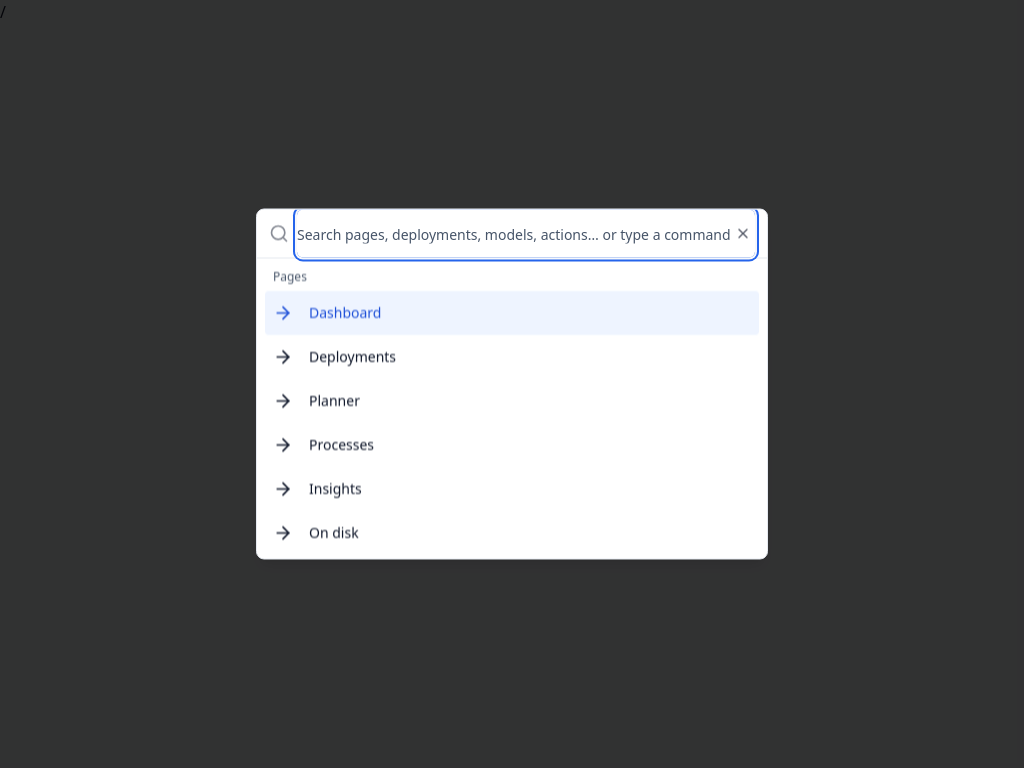
Test: CommandPalette › filters and navigates on Enter
Type "planner" into the dropdown with placeholder "Search pages, deployments, models" at point(526, 234), box [297,210,755,258]
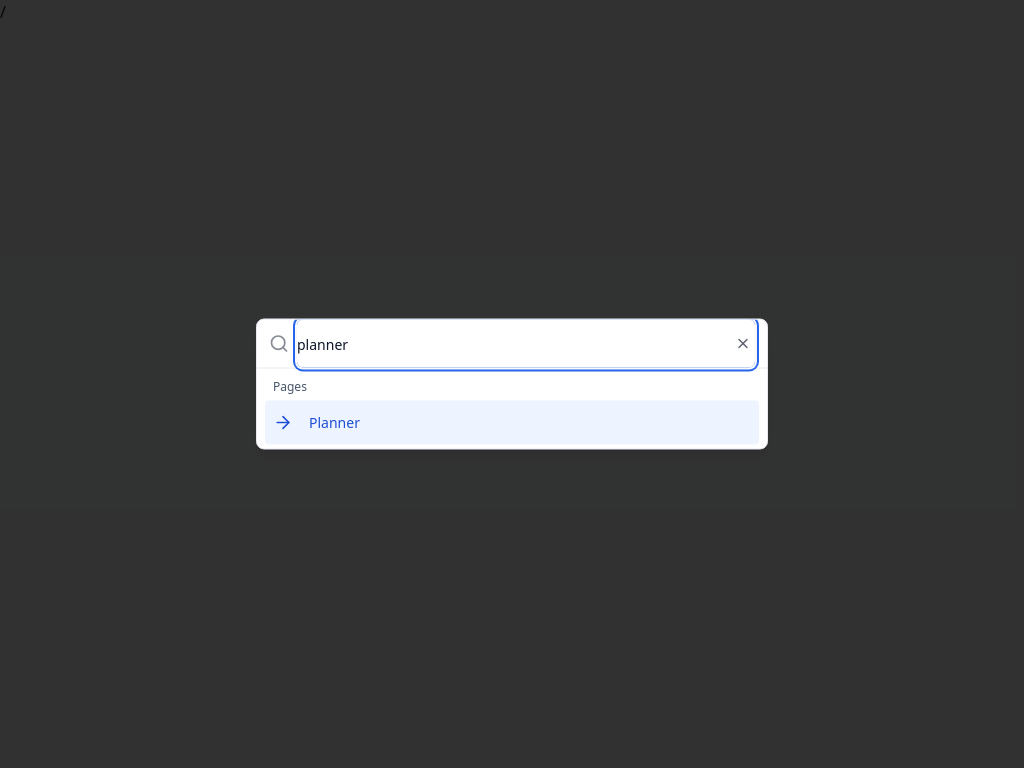
Press Enter
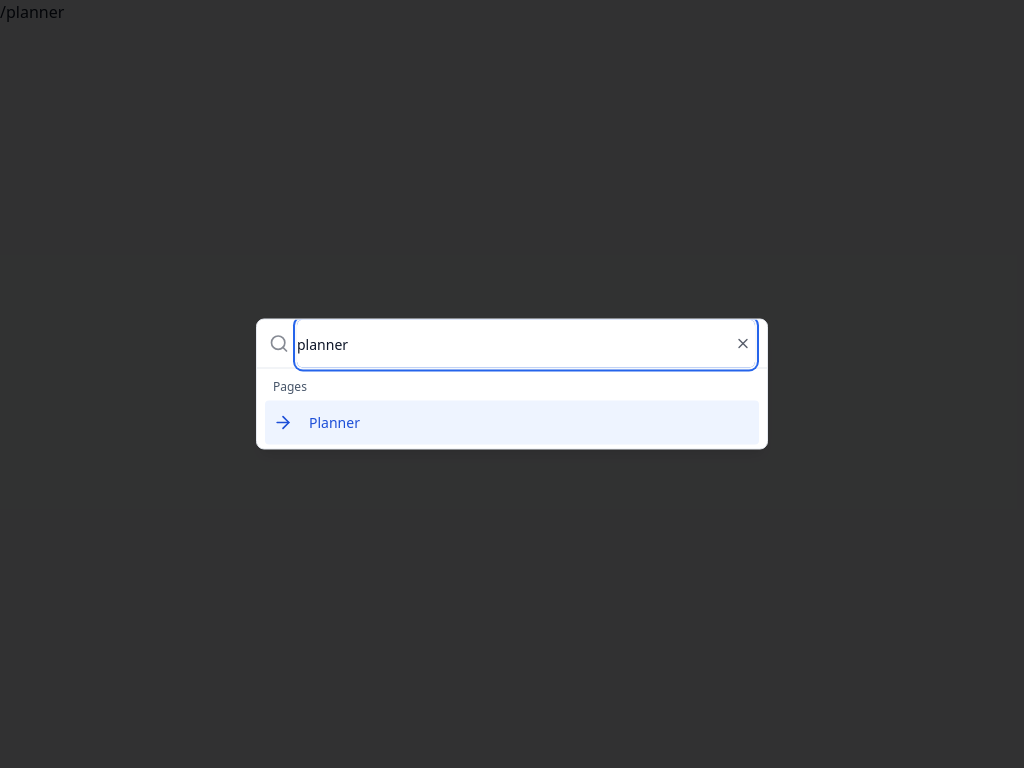
Expected: the text with test id "where" reads "/planner", [0,1,64,23]
